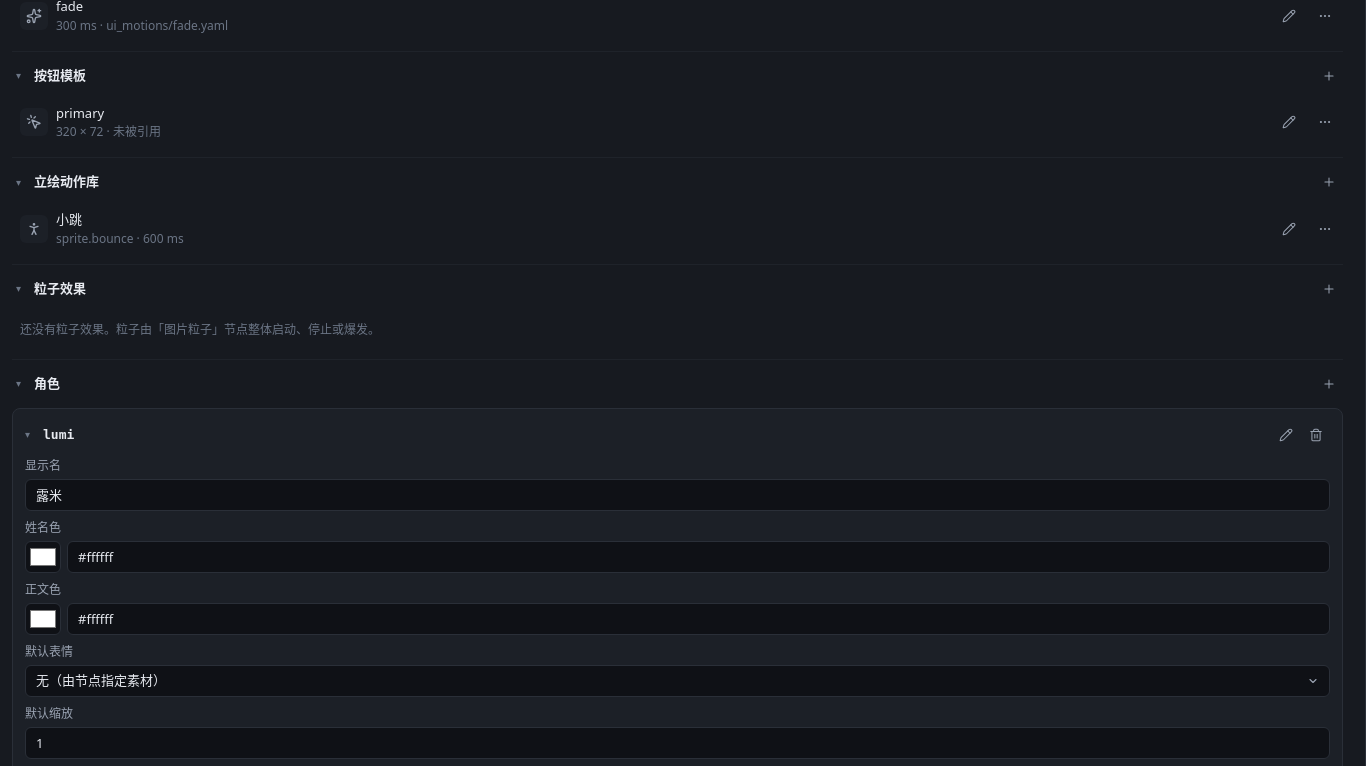
it: project panel sections › starts every section expanded and toggles each one independently
(page scrolled)
Click the button "▾ 角色".
click(19, 383)  # box [12,370,1311,398]
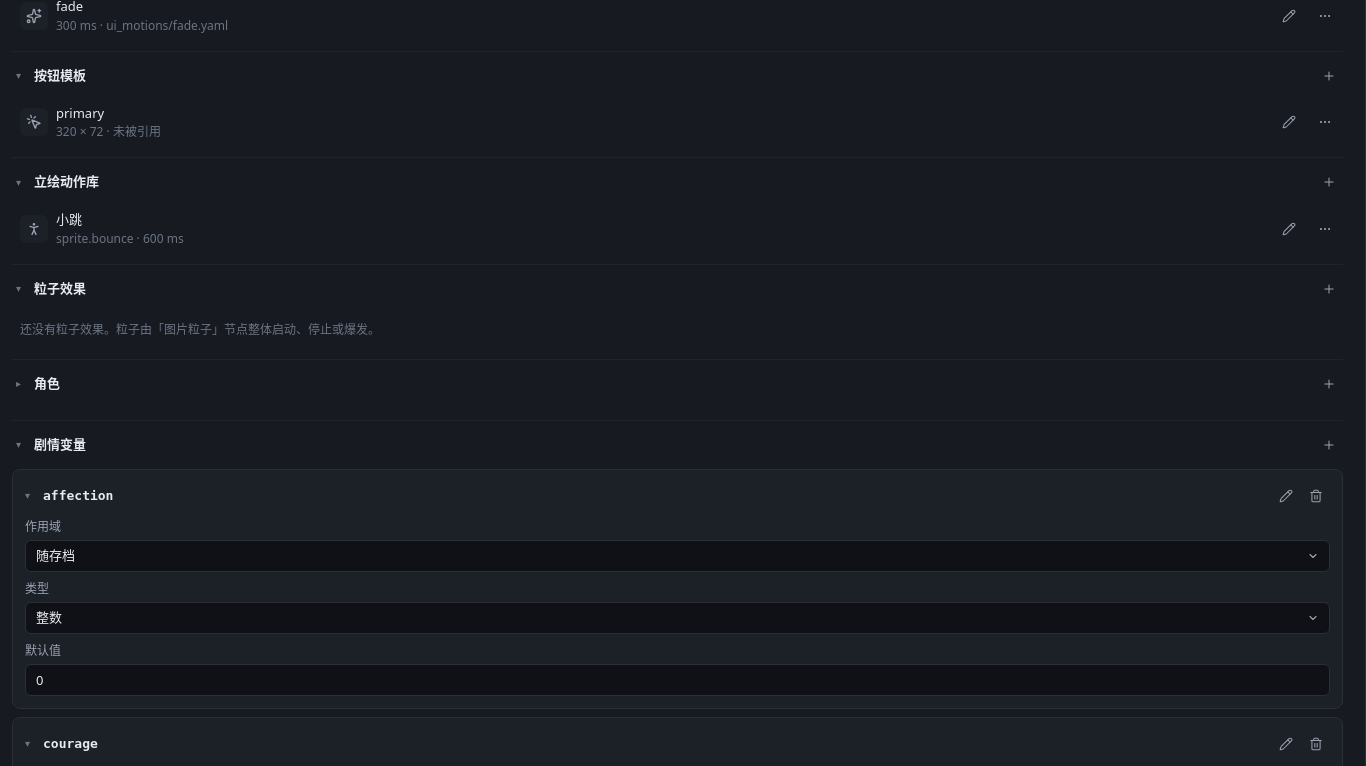
Click the button "▾ 剧情变量".
click(60, 444)  # box [12,430,1311,458]
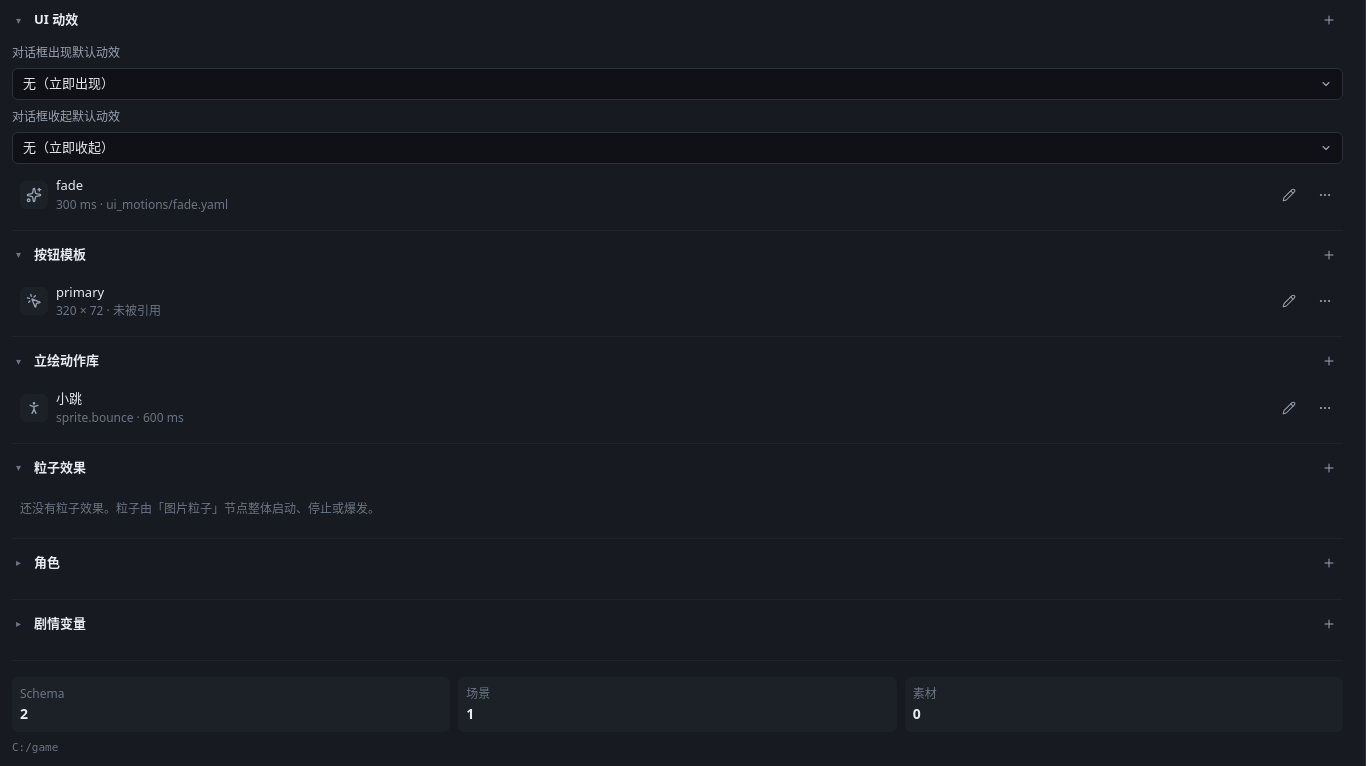
expect the button "▸ 角色" is collapsed: met, box [12,548,1311,576]
expect the button "▸ 剧情变量" is collapsed: met
Click the button "▸ 剧情变量".
click(60, 623)  # box [12,610,1311,638]
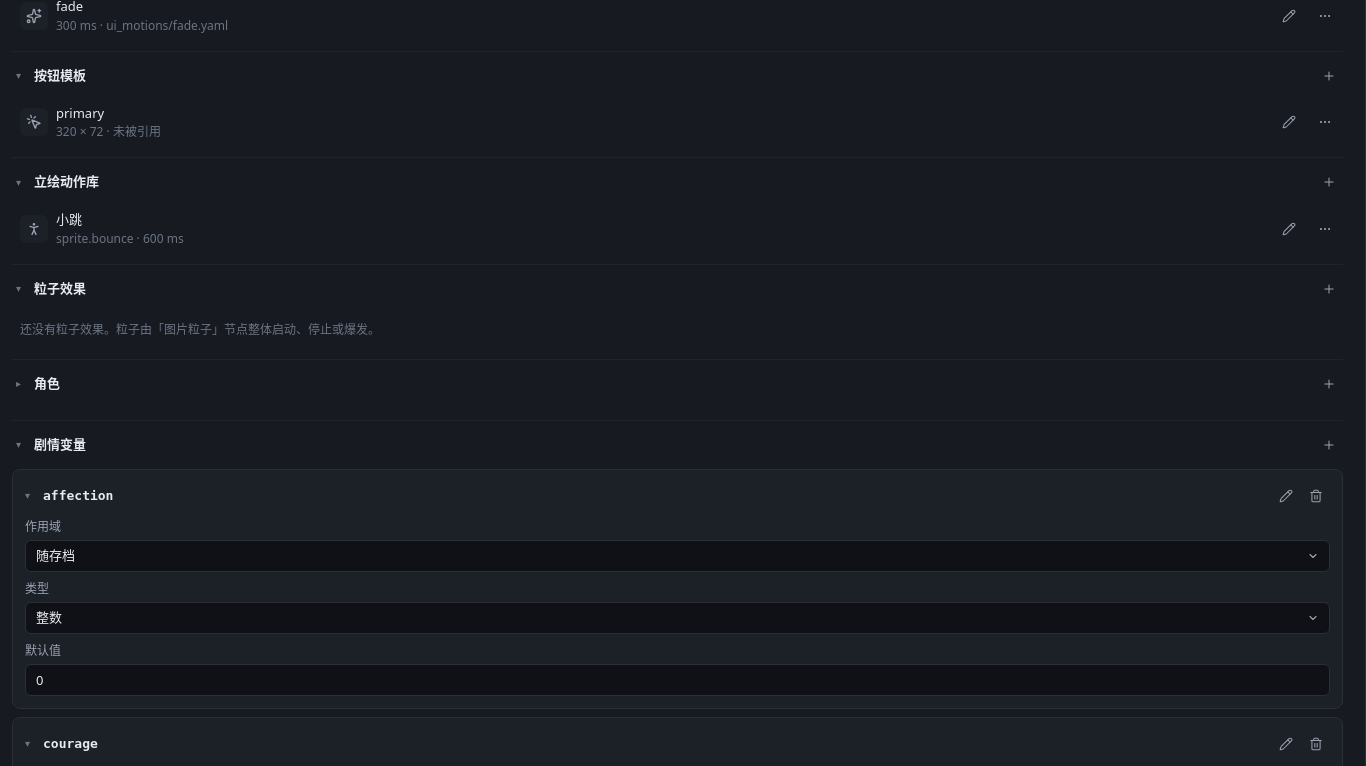
expect the button "▾ 剧情变量" is expanded: met, box [12,430,1311,458]
